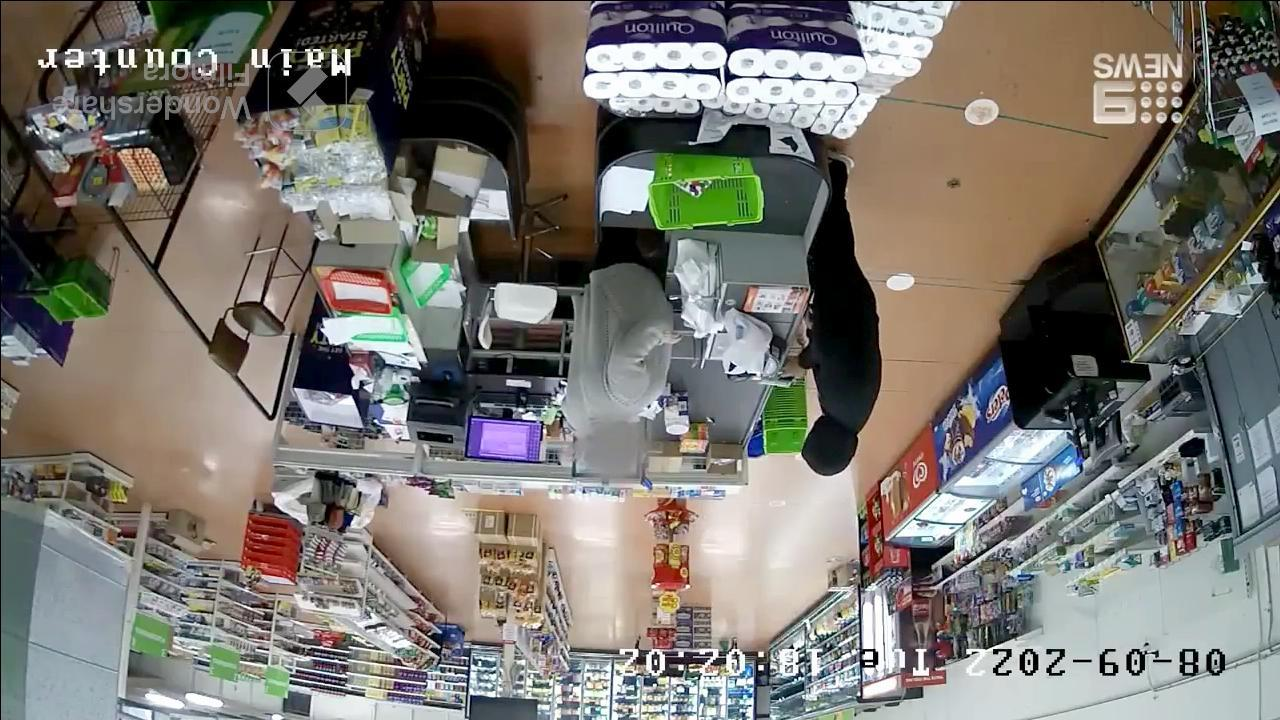gun: (752, 354, 798, 396)
